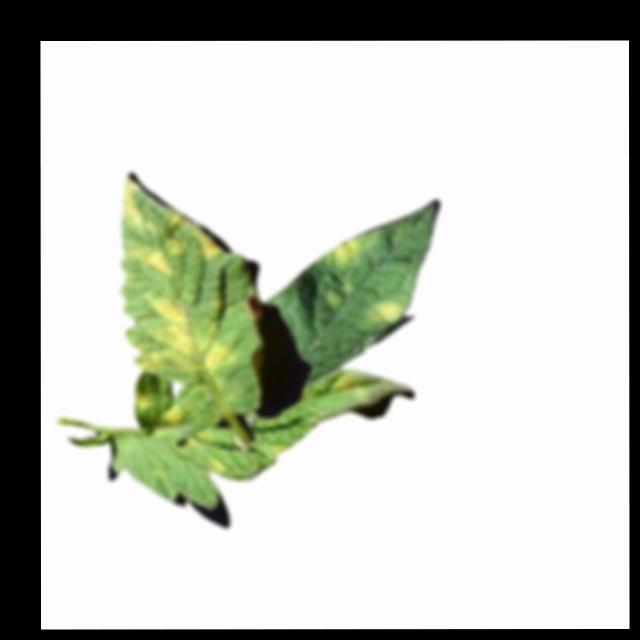Leaf_Mold: (136, 296, 233, 377), (119, 176, 187, 234), (123, 236, 184, 276), (330, 369, 370, 403), (331, 233, 363, 269), (367, 298, 406, 324), (195, 227, 222, 257), (160, 403, 187, 428), (132, 386, 148, 409)
